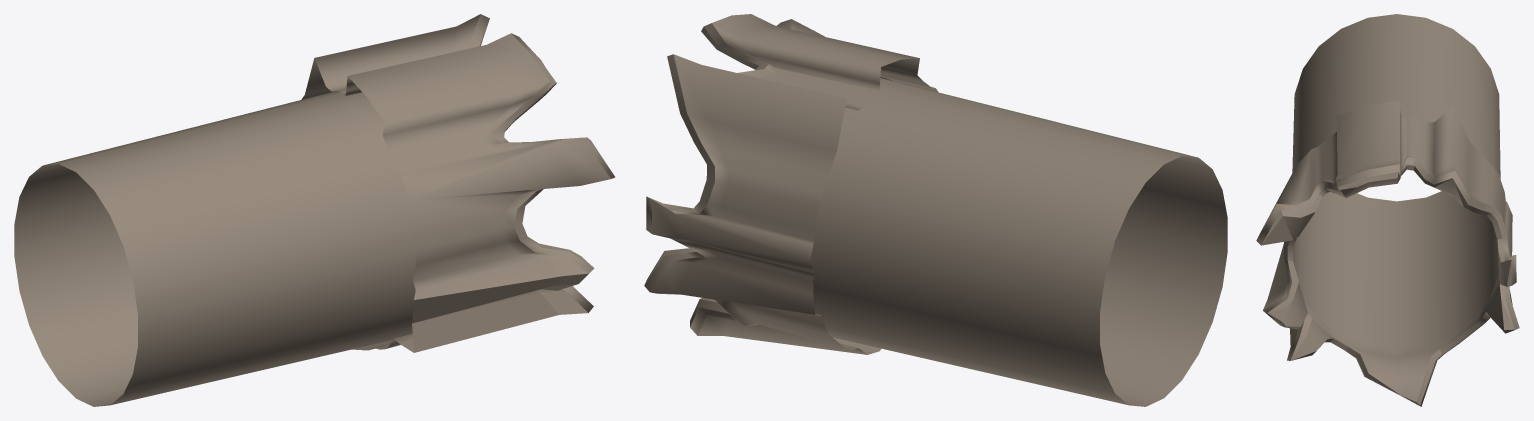
Rendered from mesh_TileRedondoRoto1 1.fbx.
3 renders of one model, left to right at view 1: azimuth 30°, elevation 25°; view 2: azimuth 150°, elevation 25°; view 3: azimuth 270°, elevation 25°, orthographic. The views are drawn at different scales.
Parts seen in each view (by area): view 1: TileRedondoRoto1; view 2: TileRedondoRoto1; view 3: TileRedondoRoto1.
Boxes of the visible parts, x1=… form: TileRedondoRoto1: x1=14, y1=14, x2=615, y2=406; TileRedondoRoto1: x1=644, y1=14, x2=1227, y2=406; TileRedondoRoto1: x1=1256, y1=14, x2=1519, y2=406.
Bounding box in the file's own units: 3345 × 2049 × 2016.
